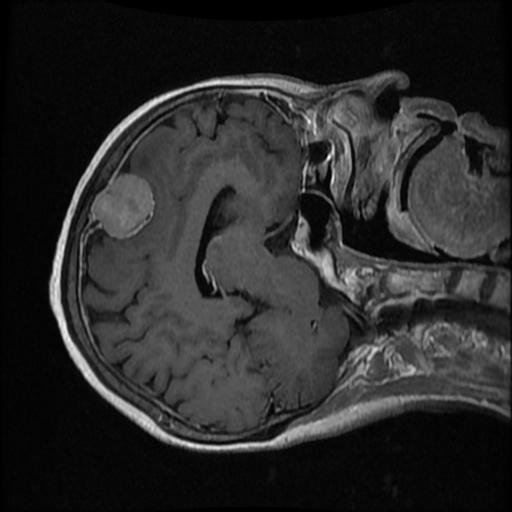meningioma: (90, 172, 154, 240)
